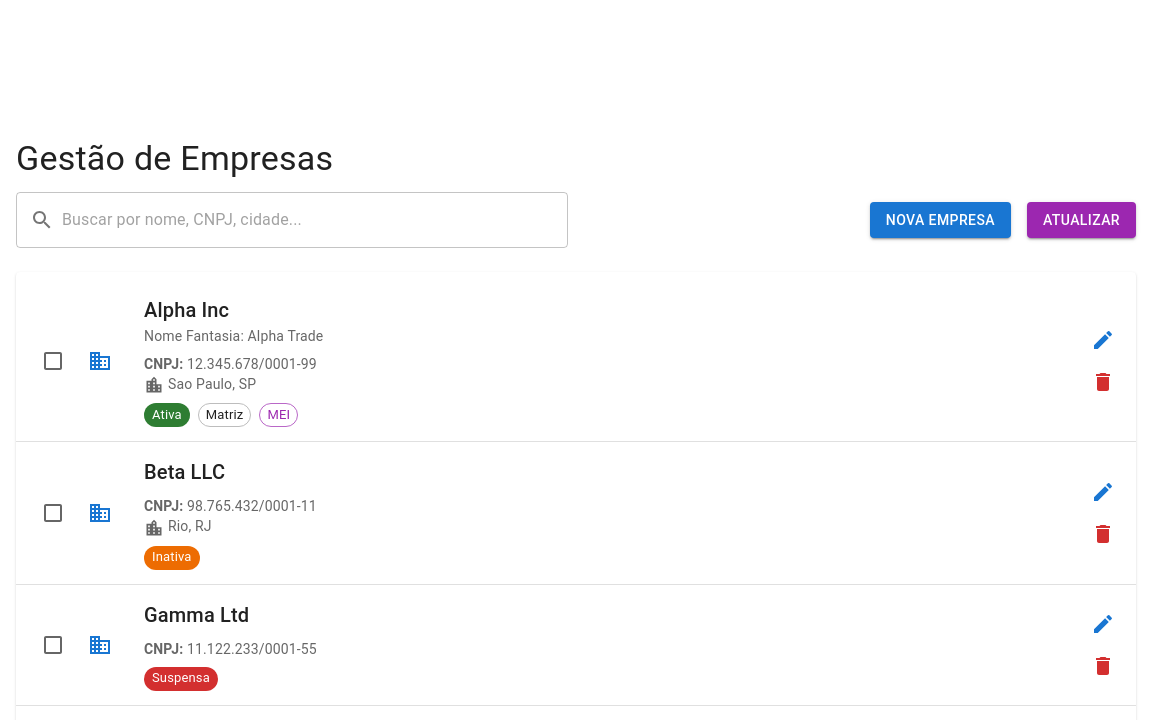
Test: CompaniesList › toggles selected companies
(page scrolled)
expect the text "Alpha Inc" is shown: met, box [144,298,229,322]
Click the 1st checkbox: (53, 360) [41,348,65,372]
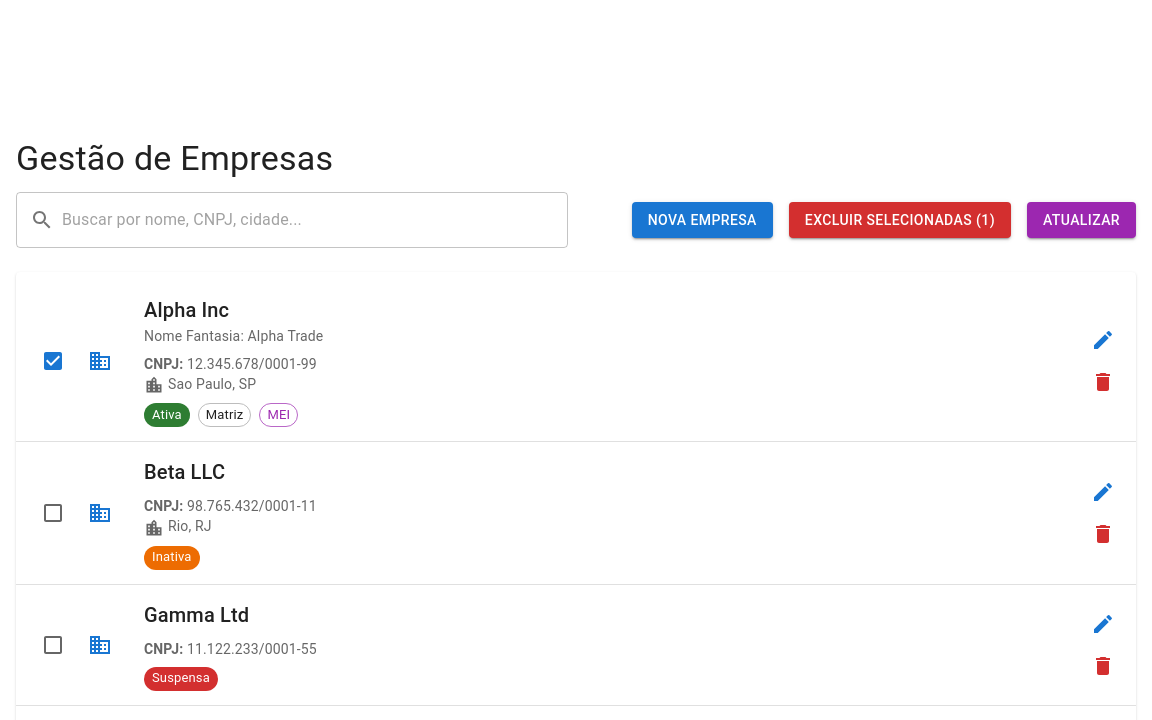
expect the button "Excluir Selecionadas (1)" is shown: met, box [789,202,1011,238]
Click the 1st checkbox: (53, 360) [41,348,65,372]
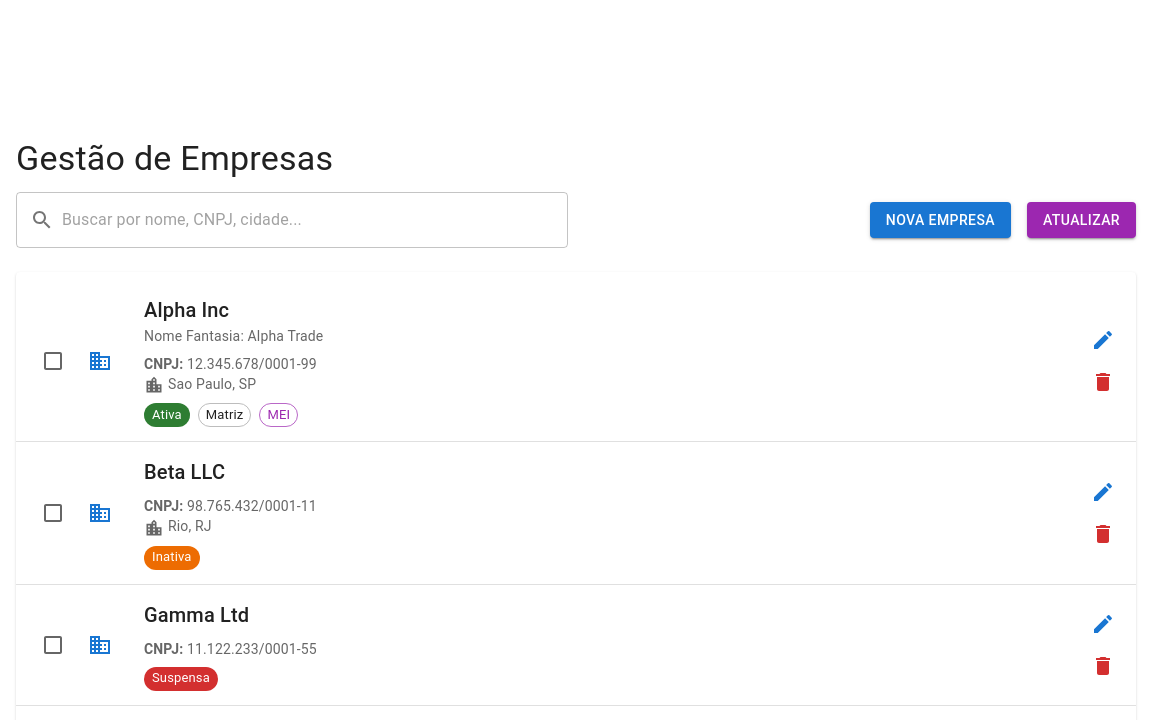
expect the button "Excluir Selecionadas" is gone: met
